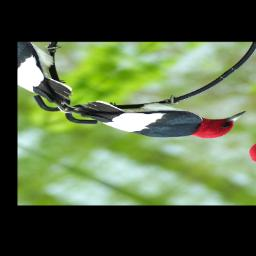Woodpecker: (61, 60, 255, 168)
